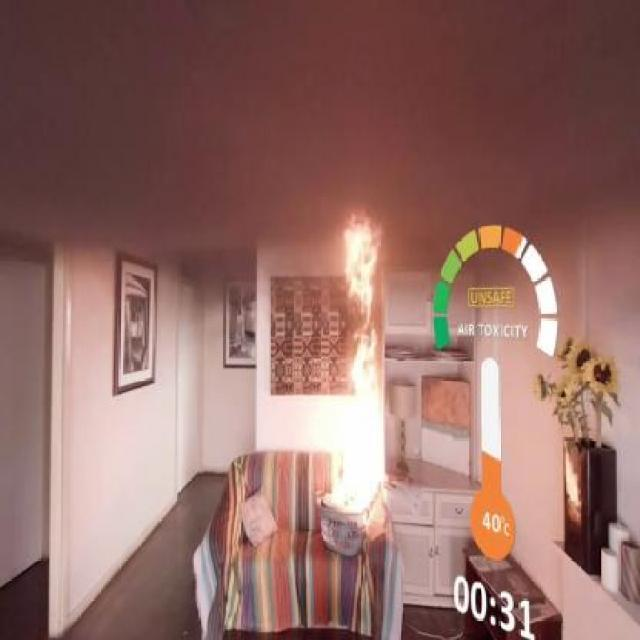fire: (314, 230, 392, 556)
smoke: (69, 23, 534, 200)
